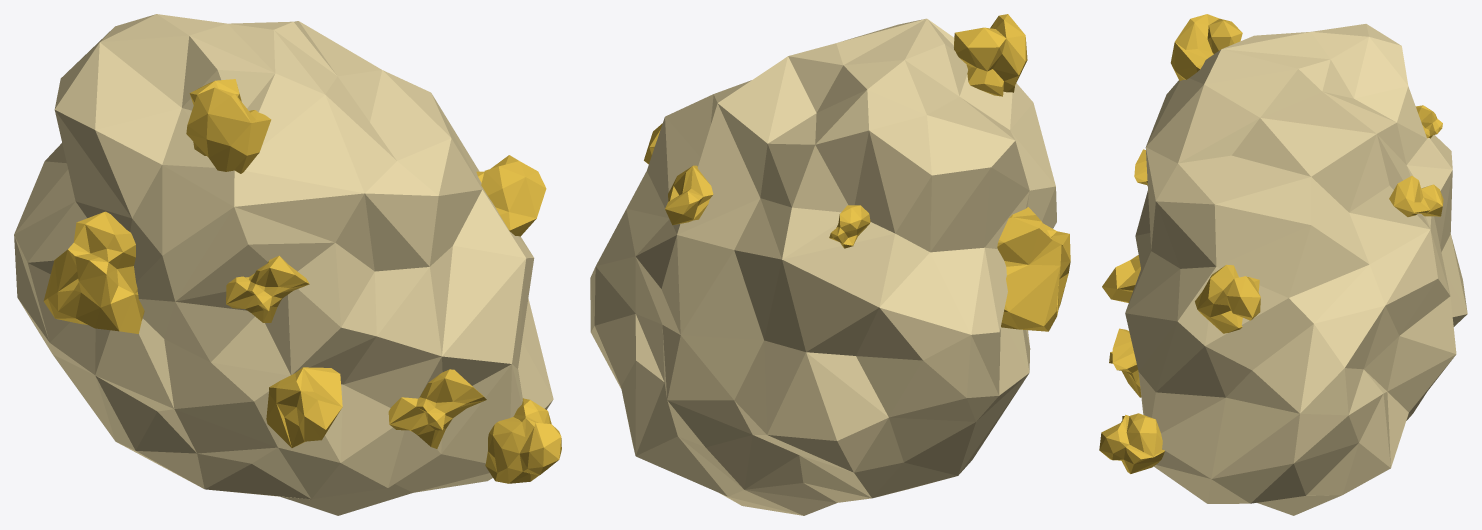
File: MetalOre (52).fbx
3 views of the same model, side by side, from view 1: azimuth 30°, elevation 25°; view 2: azimuth 150°, elevation 25°; view 3: azimuth 270°, elevation 25° (orthographic). The views are drawn at different scales.
Parts seen in each view (by area): view 1: Asteroid407; view 2: Asteroid407; view 3: Asteroid407.
Part boxes in pixels (x1=…): Asteroid407: x1=14, y1=14, x2=561, y2=515; Asteroid407: x1=590, y1=14, x2=1070, y2=515; Asteroid407: x1=1099, y1=14, x2=1467, y2=515.
Bounding box in the file's own units: 419 × 425 × 341.
